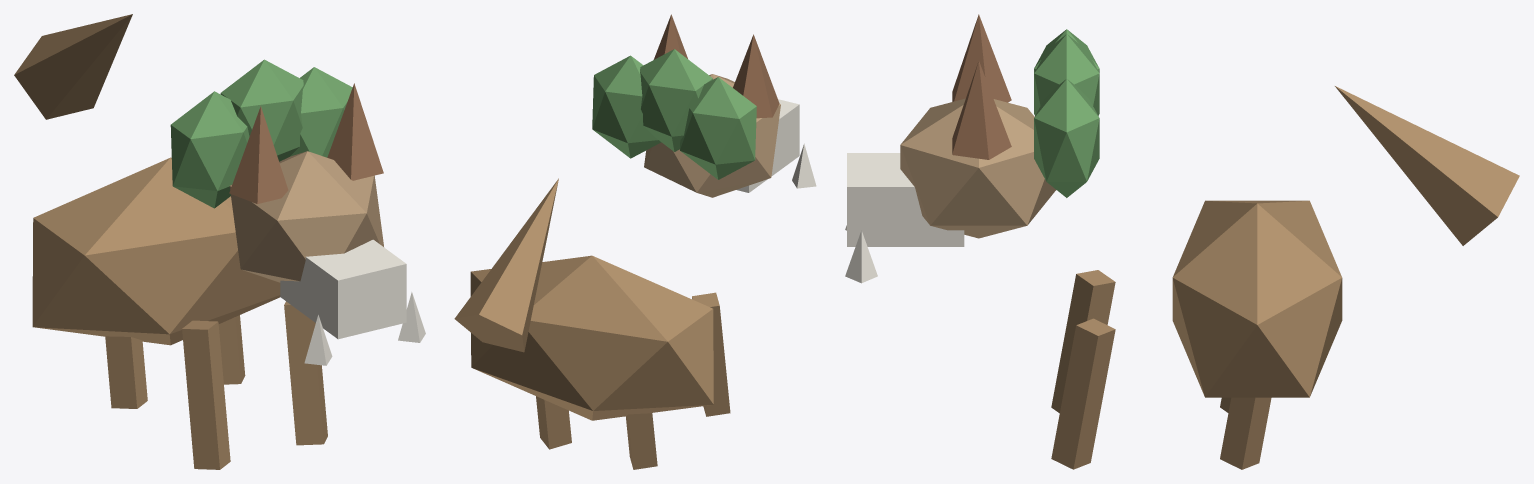
The model's file is npcpose_wolf_walk_07.glb.
3 renders of one model, left to right at view 1: azimuth 30°, elevation 25°; view 2: azimuth 150°, elevation 25°; view 3: azimuth 270°, elevation 25°, orthographic. The views are drawn at different scales.
Visible parts, largest first — view 1: npcpose; view 2: npcpose; view 3: npcpose.
Part boxes in pixels (left/top/right/bottom): npcpose: left=14, top=14, right=425, bottom=469; npcpose: left=454, top=14, right=816, bottom=469; npcpose: left=845, top=14, right=1519, bottom=469.
Bounding box in the file's own units: 0.8873 × 1.22 × 1.84.
